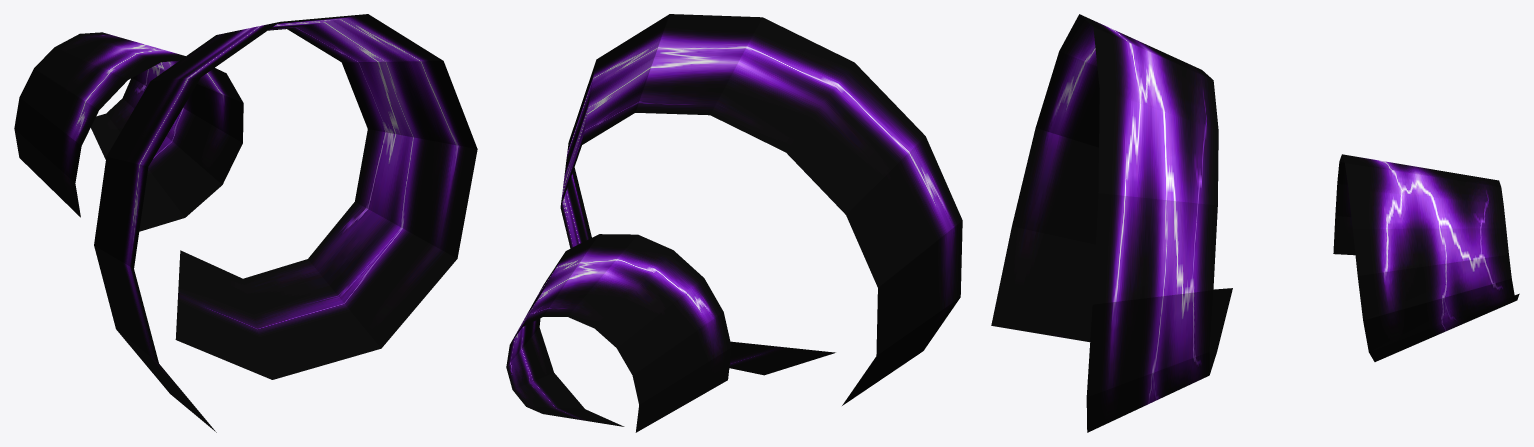
Rendered from tx_shuangzifengbao_b_01.obj.
3 renders of one model, left to right at view 1: azimuth 30°, elevation 25°; view 2: azimuth 150°, elevation 25°; view 3: azimuth 270°, elevation 25°, orthographic. The views are drawn at different scales.
Parts seen in each view (by area): view 1: Plane02, Plane01; view 2: Plane02, Plane01; view 3: Plane02, Plane01.
Boxes of the visible parts, box(x1,y1,x2,y2) form: Plane02: box(94, 14, 477, 432); Plane01: box(14, 32, 243, 231); Plane02: box(560, 14, 962, 405); Plane01: box(506, 234, 731, 432); Plane02: box(991, 14, 1232, 432); Plane01: box(1333, 154, 1519, 361).
Bounding box in the file's own units: 79.79 × 73.89 × 95.97.
1 material, 1 textured.
